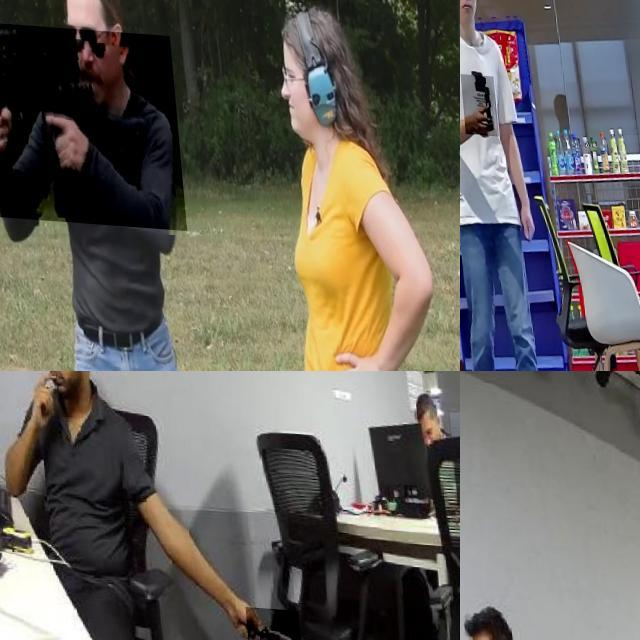-: (234, 602, 291, 640)
gun-knife-thesis - v11 Yolov5 augmented: (0, 14, 180, 225), (460, 67, 495, 128)
